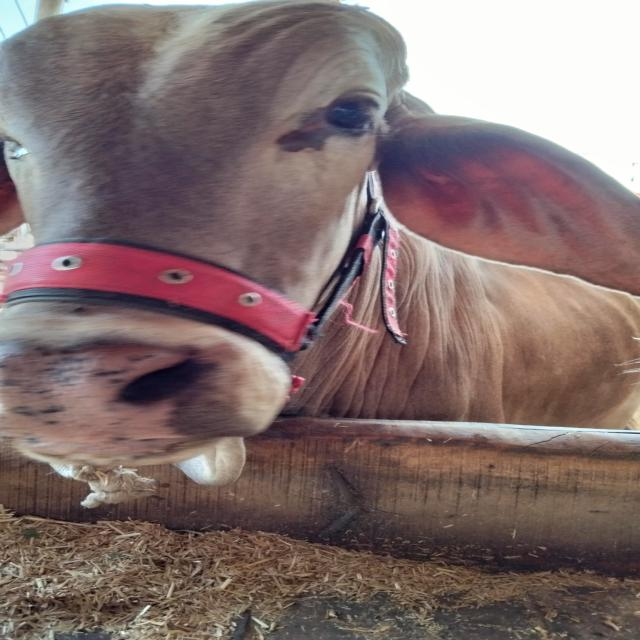muzzles: (0, 322, 279, 458)
